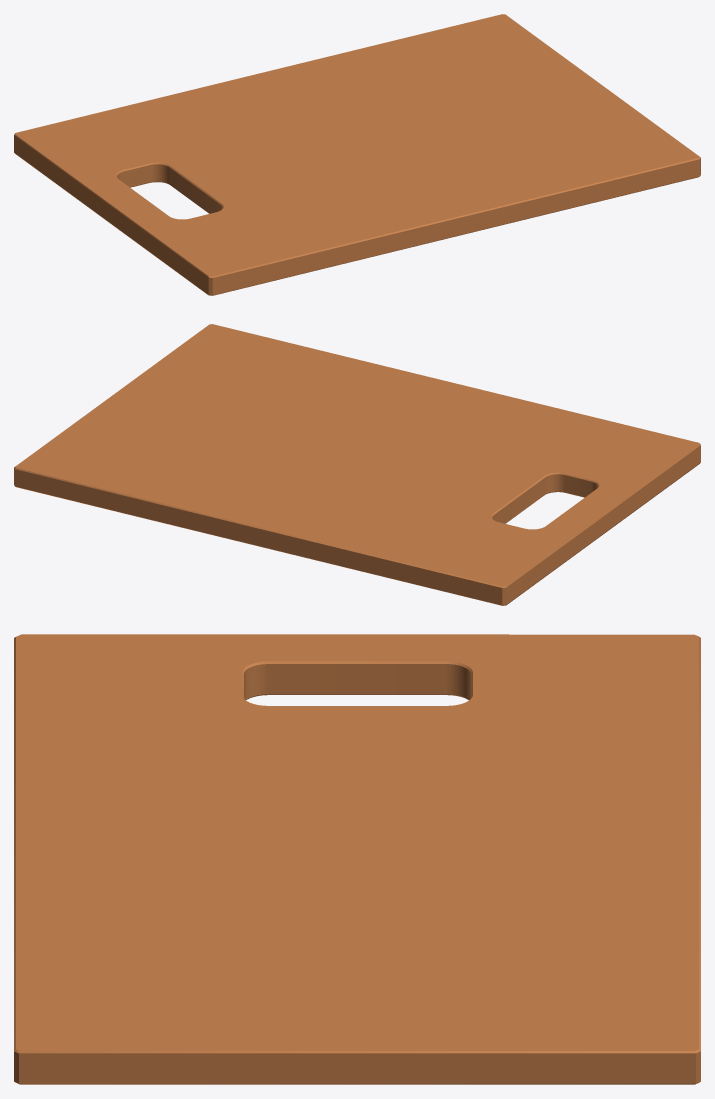
The picture shows the model from 3 angles, top to bottom: view 1: azimuth 30°, elevation 25°; view 2: azimuth 150°, elevation 25°; view 3: azimuth 270°, elevation 25°; orthographic projection. The views are drawn at different scales.
Visible parts, largest first — view 1: board; view 2: board; view 3: board.
Boxes of the visible parts, x1,y1,x2,y2 form: board: (14, 14, 700, 295); board: (14, 324, 700, 605); board: (14, 634, 700, 1084).
Size of the model in its own units: 0.4 by 0.015 by 0.2781.
